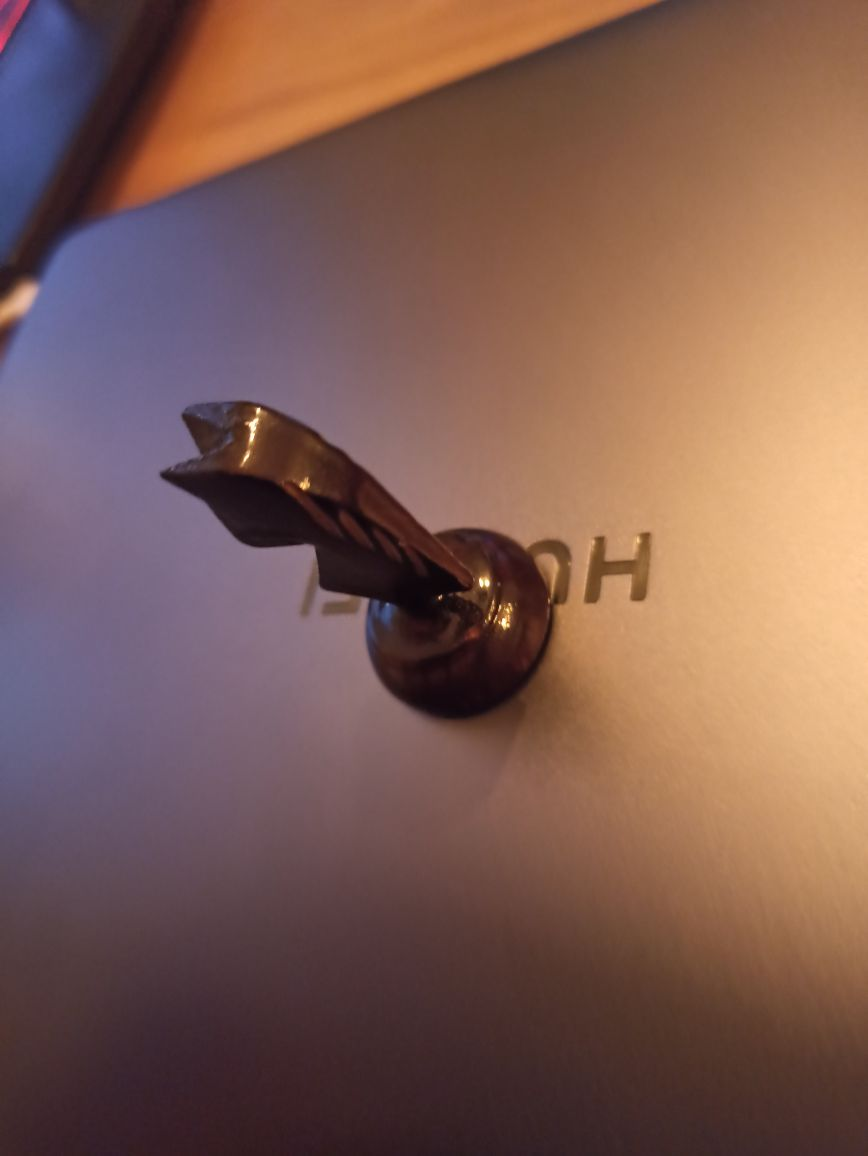bknight: (155, 396, 557, 718)
